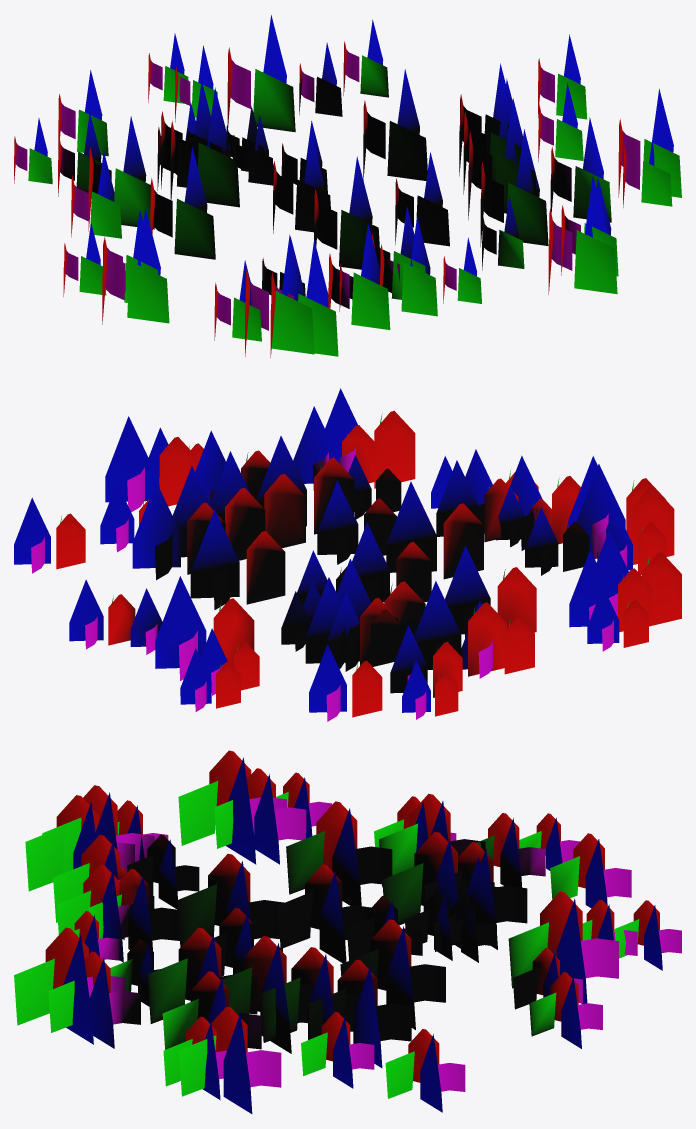
File: SM_GrassPack_03.fbx
The picture shows the model from 3 angles, top to bottom: view 1: azimuth 30°, elevation 25°; view 2: azimuth 150°, elevation 25°; view 3: azimuth 270°, elevation 25°; orthographic projection. The views are drawn at different scales.
Visible parts, largest first — view 1: attribtransfer1; view 2: attribtransfer1; view 3: attribtransfer1.
Part boxes in pixels (x1,y1,x2,y2): attribtransfer1: (14,15,681,357); attribtransfer1: (14,388,681,721); attribtransfer1: (14,750,681,1113).
Size of the model in its own units: 207 by 33.68 by 200.
